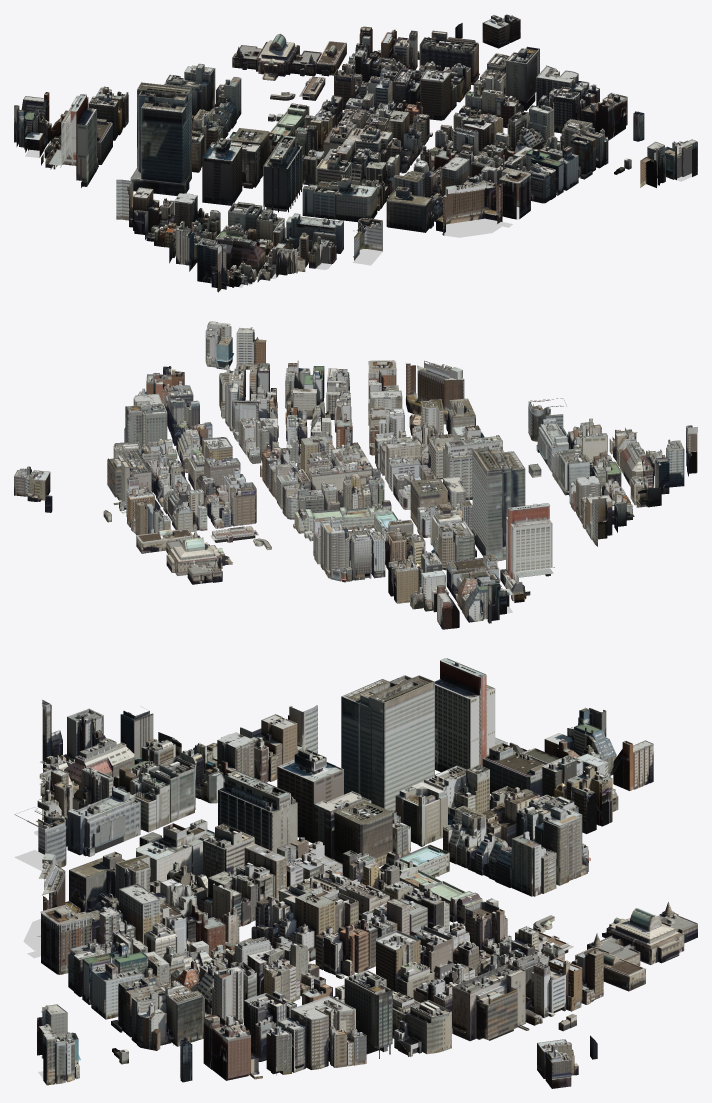
The model's file is 53394601b_bldg_6677.fbx.
3 views of the same model, one above another, from view 1: azimuth 30°, elevation 25°; view 2: azimuth 150°, elevation 25°; view 3: azimuth 270°, elevation 25° (orthographic). The views are drawn at different scales.
Visible parts, largest first — view 1: plateau_merged.511, plateau_merged.126, plateau_merged.280, plateau_merged.221, plateau_merged.146, plateau_merged.165, plateau_merged.463, plateau_merged.073, plateau_merged.293, plateau_merged.043, plateau_merged, plateau_merged.014 (+51 smaller); view 2: plateau_merged.511, plateau_merged.280, plateau_merged.126, plateau_merged.165, plateau_merged.147, plateau_merged.221, plateau_merged.293, plateau_merged.463, plateau_merged.407, plateau_merged.025, plateau_merged.336, plateau_merged.376 (+46 smaller); view 3: plateau_merged.511, plateau_merged.280, plateau_merged.126, plateau_merged.463, plateau_merged.221, plateau_merged.014, plateau_merged.376, plateau_merged.146, plateau_merged.242, plateau_merged.147, plateau_merged.293, plateau_merged.492 (+68 smaller).
Boxes of the visible parts, box(x1,y1,x2,y2) form: plateau_merged.511: box(130, 82, 191, 195); plateau_merged.126: box(232, 33, 346, 80); plateau_merged.280: box(48, 94, 98, 187); plateau_merged.221: box(263, 135, 302, 212); plateau_merged.146: box(202, 138, 242, 205); plateau_merged.165: box(436, 181, 505, 235); plateau_merged.463: box(419, 30, 479, 84); plateau_merged.073: box(386, 186, 433, 232); plateau_merged.293: box(506, 46, 539, 110); plateau_merged.043: box(335, 175, 377, 222); plateau_merged: box(25, 149, 691, 287); plateau_merged.014: box(285, 213, 343, 253); plateau_merged.511: box(472, 447, 525, 561); plateau_merged.280: box(500, 503, 554, 595); plateau_merged.126: box(136, 528, 232, 584); plateau_merged.165: box(406, 360, 464, 424); plateau_merged.147: box(293, 500, 398, 533); plateau_merged.221: box(443, 435, 503, 500); plateau_merged.293: box(125, 403, 167, 444); plateau_merged.463: box(107, 448, 151, 504); plateau_merged.407: box(320, 519, 350, 578); plateau_merged.025: box(446, 554, 499, 602); plateau_merged.336: box(307, 459, 373, 491); plateau_merged.376: box(552, 445, 589, 496); plateau_merged.511: box(341, 675, 434, 811); plateau_merged.280: box(435, 658, 507, 771); plateau_merged.126: box(575, 902, 697, 991); plateau_merged.463: box(452, 963, 529, 1041); plateau_merged.221: box(218, 770, 297, 852); plateau_merged.014: box(64, 786, 141, 856); plateau_merged.376: box(130, 756, 195, 832); plateau_merged.146: box(277, 749, 343, 843); plateau_merged.242: box(334, 800, 392, 866); plateau_merged.147: box(380, 844, 482, 926); plateau_merged.293: box(344, 970, 392, 1058); plateau_merged.492: box(291, 996, 355, 1069).
Bounding box in the file's own units: 61360 × 11053 × 52683.
570 materials, 570 textured.
